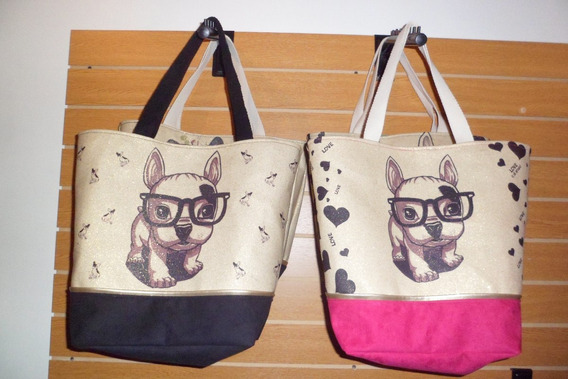cartera: (64, 27, 308, 371), (306, 24, 525, 375)
